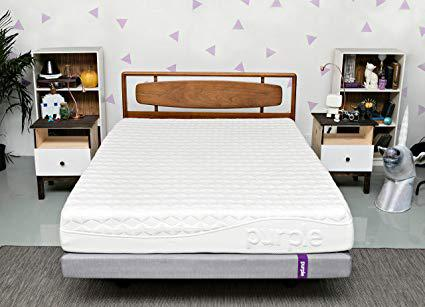bed: (58, 64, 370, 291)
